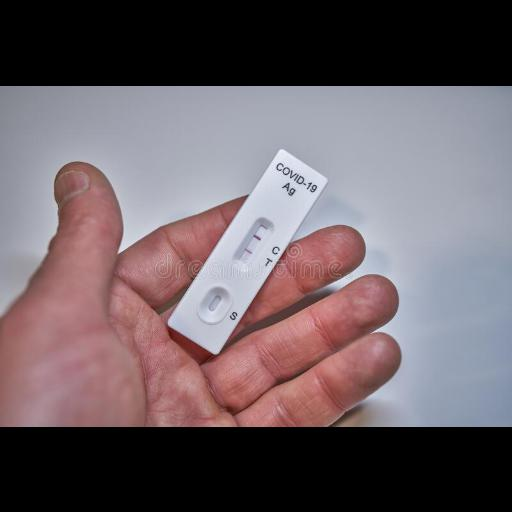Pos: (167, 149, 328, 354)
